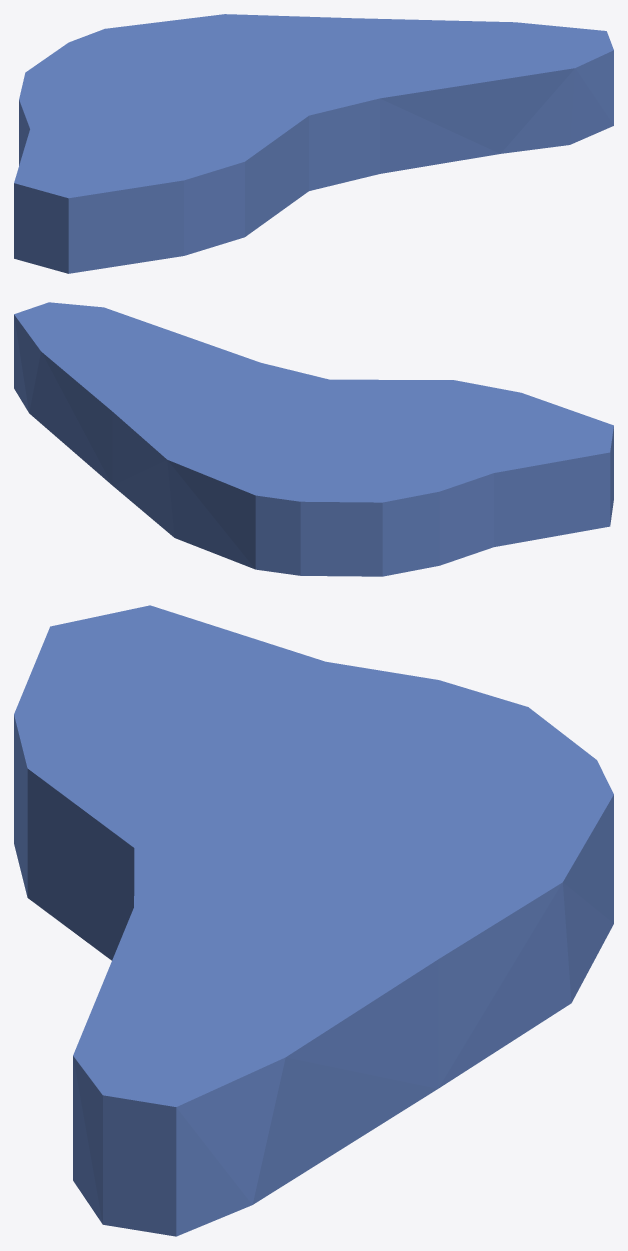
File: SP_Ground03.fbx
The picture shows the model from 3 angles, top to bottom: view 1: azimuth 30°, elevation 25°; view 2: azimuth 150°, elevation 25°; view 3: azimuth 270°, elevation 25°; orthographic projection. The views are drawn at different scales.
Parts seen in each view (by area): view 1: SP_Ground03; view 2: SP_Ground03; view 3: SP_Ground03.
Part boxes in pixels (x1=…): SP_Ground03: x1=14, y1=14, x2=613, y2=273; SP_Ground03: x1=14, y1=302, x2=613, y2=576; SP_Ground03: x1=14, y1=605, x2=613, y2=1236.
Size of the model in its own units: 191 by 23 by 96.6.
1 material, 1 textured.
